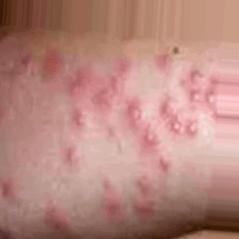Fleas: (38, 203, 76, 239), (90, 81, 122, 114), (159, 98, 183, 136), (107, 58, 130, 91), (122, 99, 147, 129), (68, 67, 90, 98), (41, 50, 64, 79), (134, 176, 151, 215), (103, 180, 120, 216), (188, 68, 218, 87), (189, 90, 215, 106), (72, 106, 89, 129), (143, 128, 161, 149), (14, 52, 31, 74), (152, 155, 170, 173), (65, 146, 79, 164), (185, 119, 197, 138), (0, 179, 12, 198), (153, 52, 164, 67), (0, 226, 13, 238)
